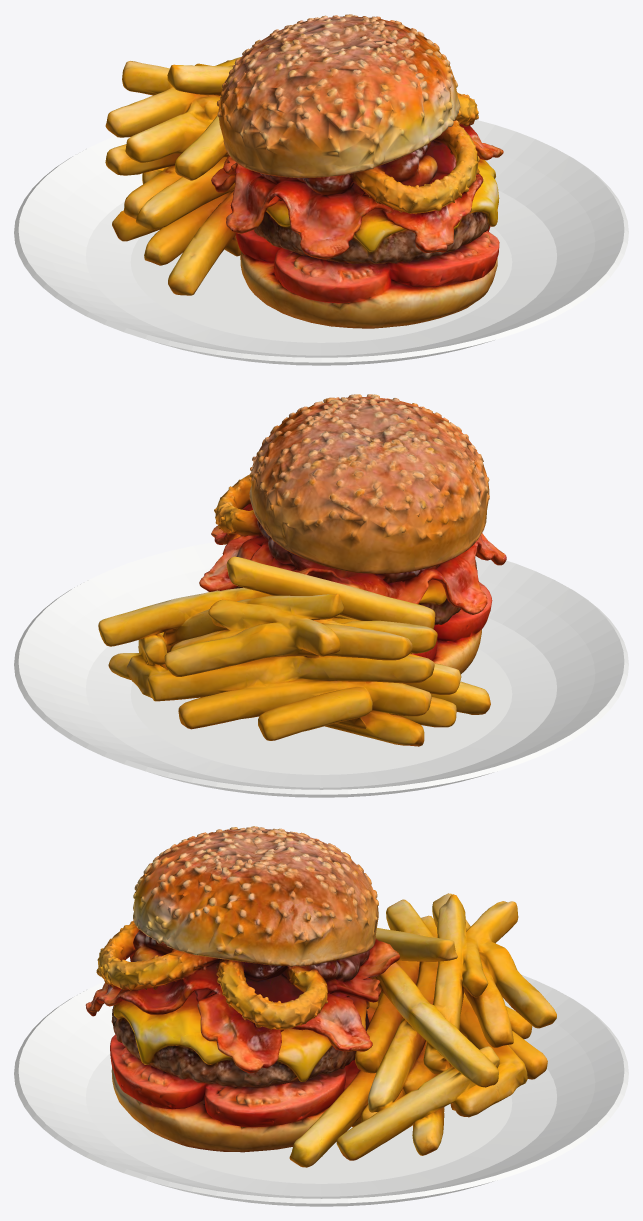
The model's file is hamburguesa_010.glb.
3 views of the same model, one above another, from view 1: azimuth 30°, elevation 25°; view 2: azimuth 150°, elevation 25°; view 3: azimuth 270°, elevation 25° (orthographic).
Parts seen in each view (by area): view 1: comida, plato; view 2: comida, plato; view 3: comida, plato.
Part boxes in pixels (x1,y1,x2,y2): comida: (105,14,503,328); plato: (14,119,628,365); comida: (98,394,506,746); plato: (14,542,628,797); comida: (85,826,556,1167); plato: (14,975,628,1206).
Bounding box in the file's own units: 0.274 × 0.1307 × 0.274.
Materials: 2 (1 with a texture image).
